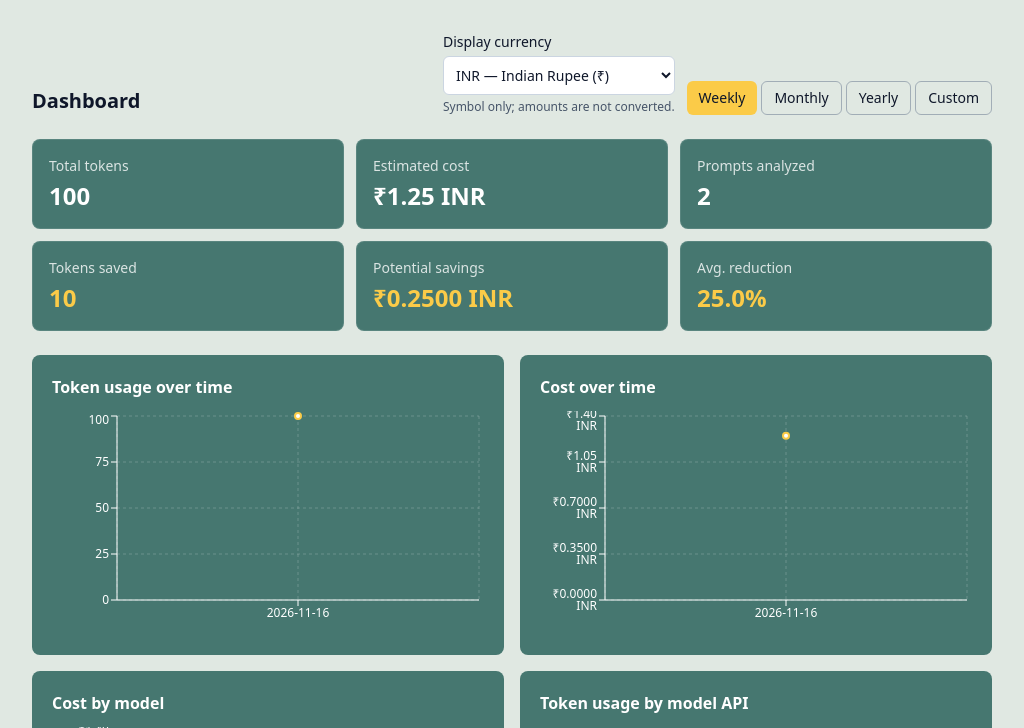
Scenario: dashboard › changes range with the filter and shows date pickers for Custom
Expected: the text "Total tokens" is shown, [49,156,129,175]
Click the button "Monthly" at {"x": 802, "y": 98}, box [761,81,842,115]
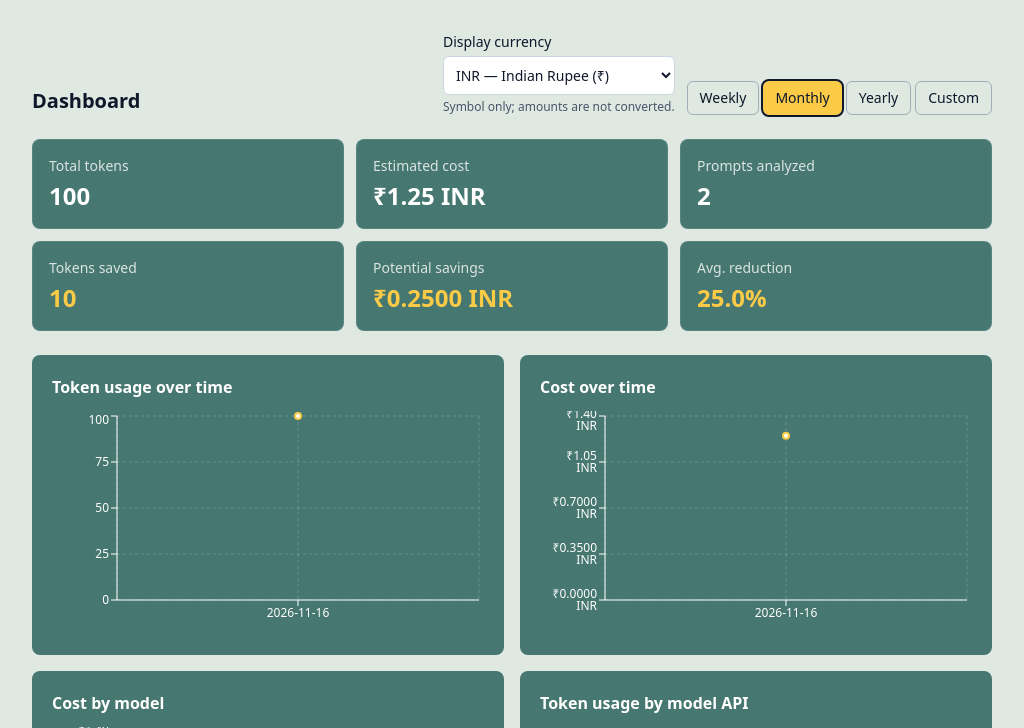
Now the button "Monthly" is pressed, box [763,81,842,115]
Click the button "Custom" at {"x": 954, "y": 98}, box [915,81,992,115]
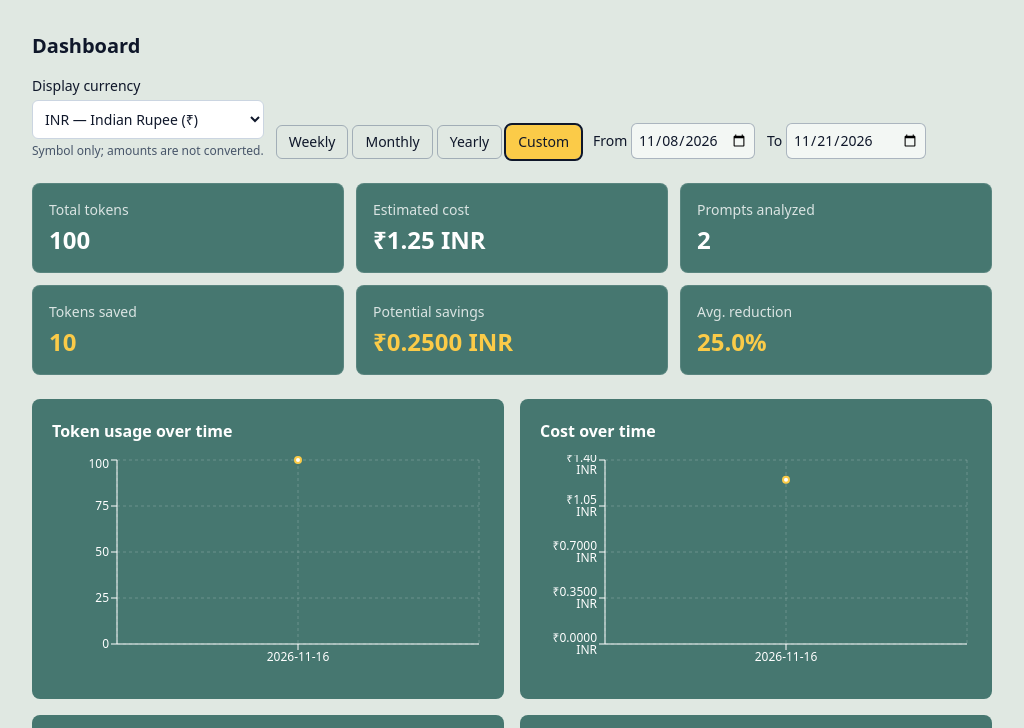
Expected: the text "Total tokens" is shown, [49,200,129,219]
Now the date field labelled "From" is shown, box [631,123,755,159]
Now the date field labelled "To" is shown, box [786,123,926,159]
